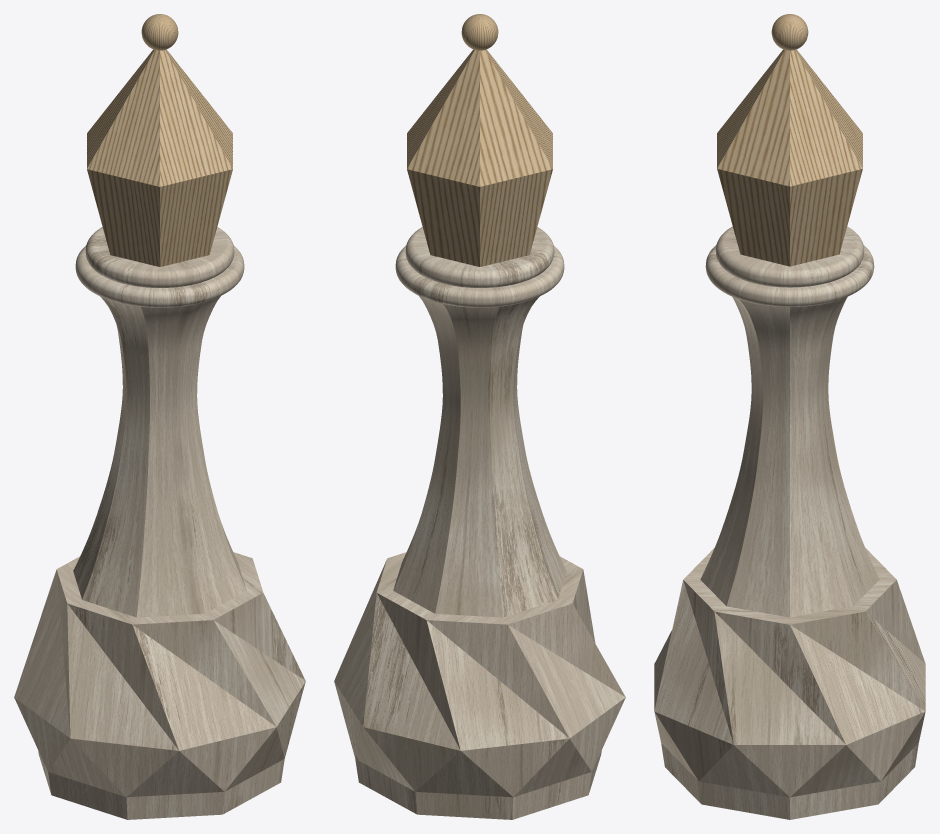
Rendered from queen-white.glb.
The picture shows the model from 3 angles, left to right: view 1: azimuth 30°, elevation 25°; view 2: azimuth 150°, elevation 25°; view 3: azimuth 270°, elevation 25°; orthographic projection.
Parts seen in each view (by area): view 1: Lithoxyl_Queen_Ivory; view 2: Lithoxyl_Queen_Ivory; view 3: Lithoxyl_Queen_Ivory.
Part boxes in pixels (left/top/right/bottom): Lithoxyl_Queen_Ivory: left=14, top=14, right=305, bottom=819; Lithoxyl_Queen_Ivory: left=334, top=14, right=625, bottom=819; Lithoxyl_Queen_Ivory: left=654, top=14, right=925, bottom=819.
Bounding box in the file's own units: 0.5006 × 1.53 × 0.5006.
2 materials, 2 textured.
